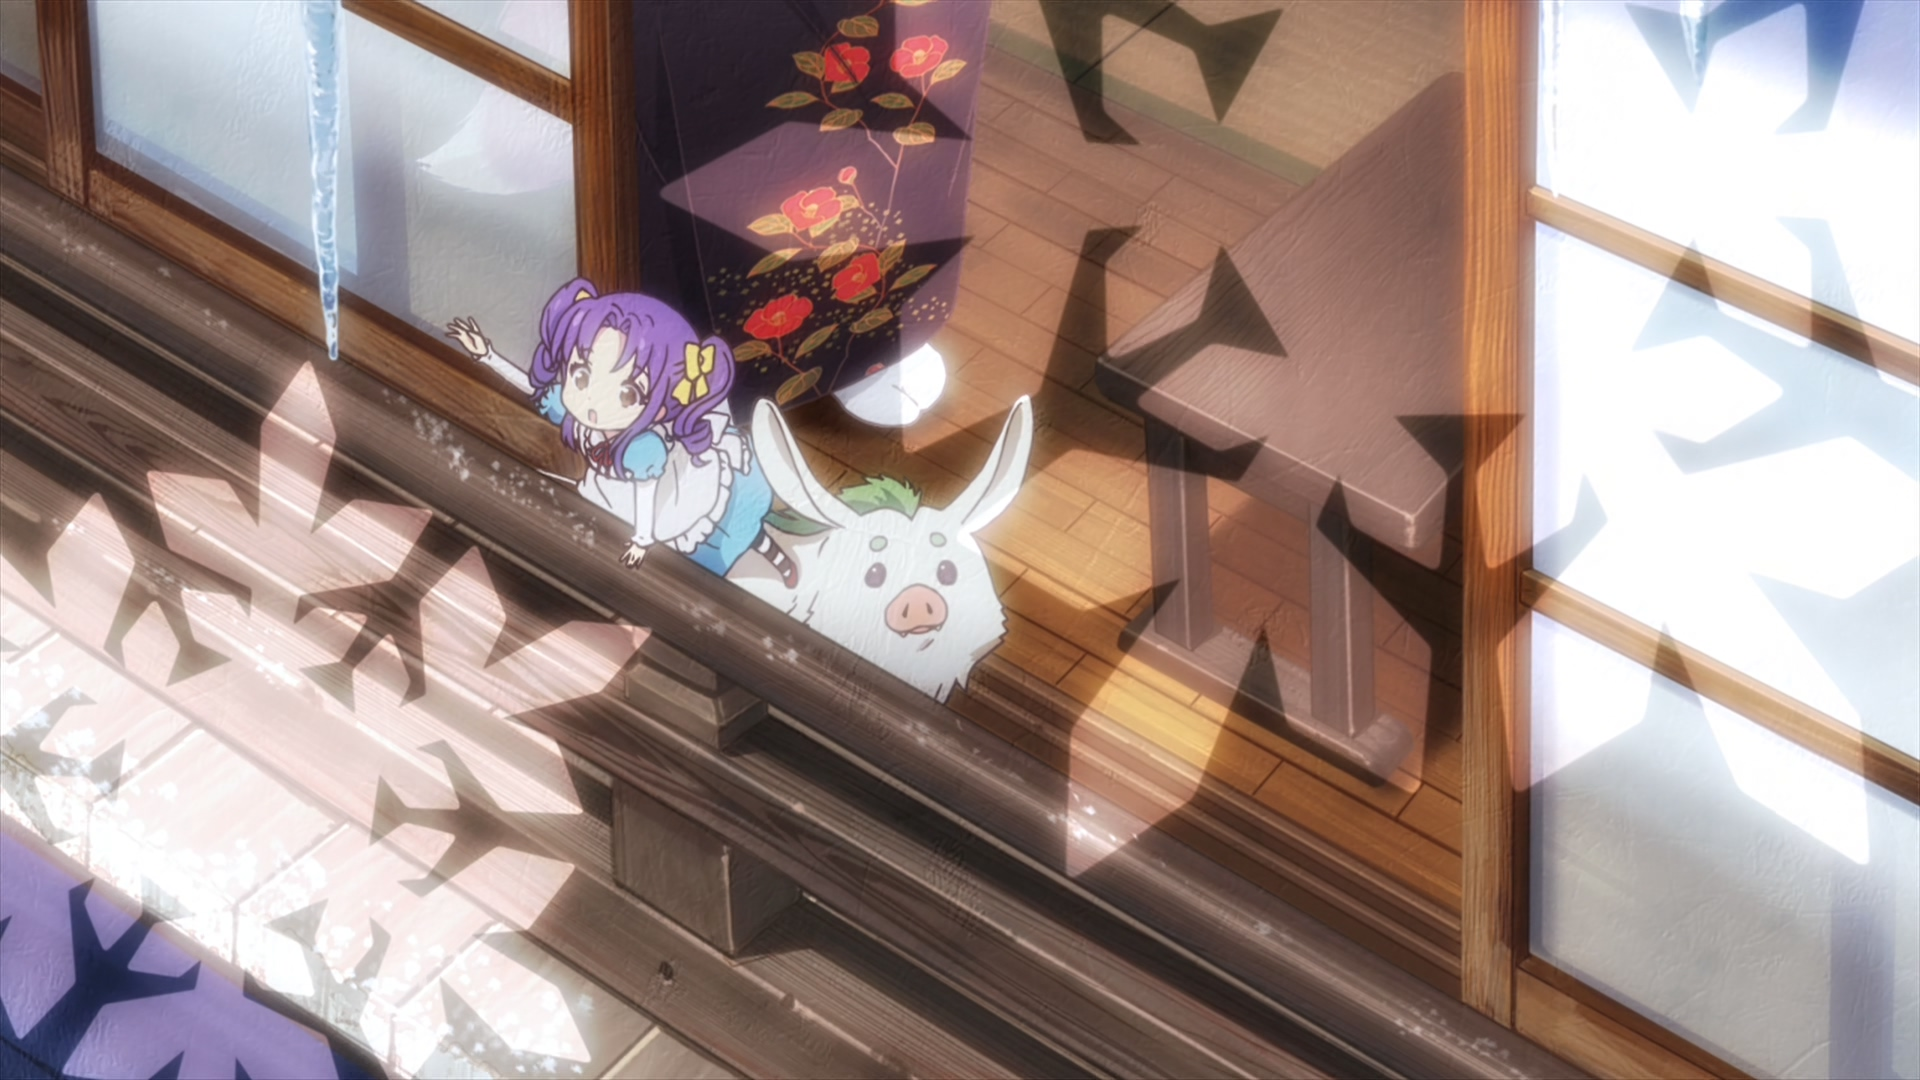其他: (628, 1, 986, 431)
瓜之介: (727, 394, 1035, 705)
阿菊: (446, 278, 800, 593)
